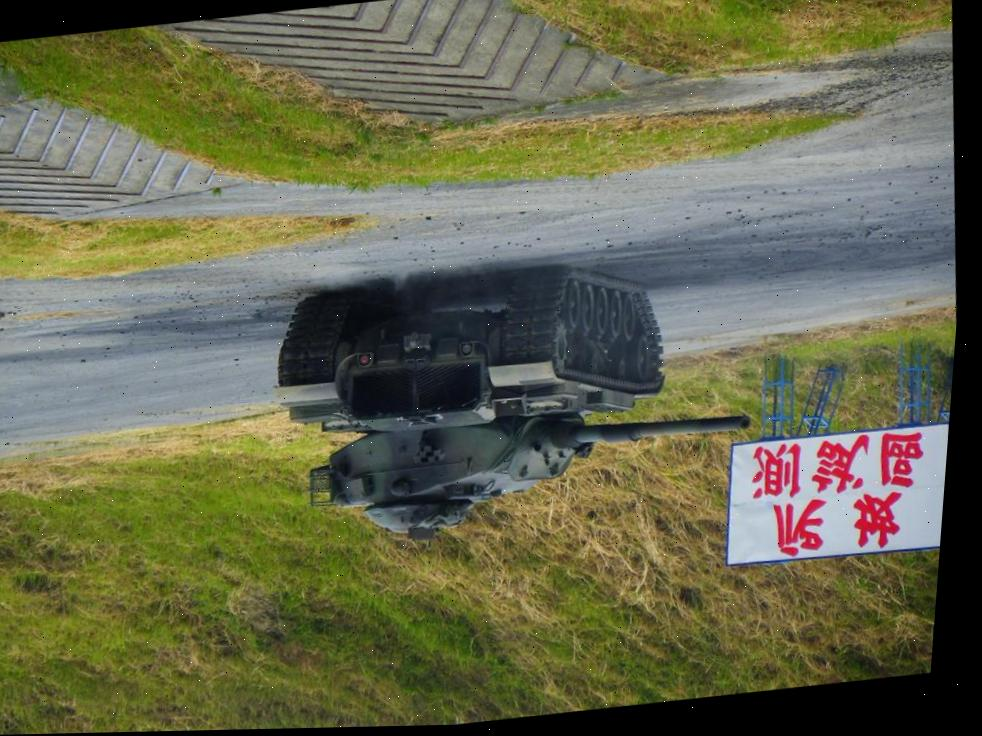tank: (246, 232, 777, 567)
